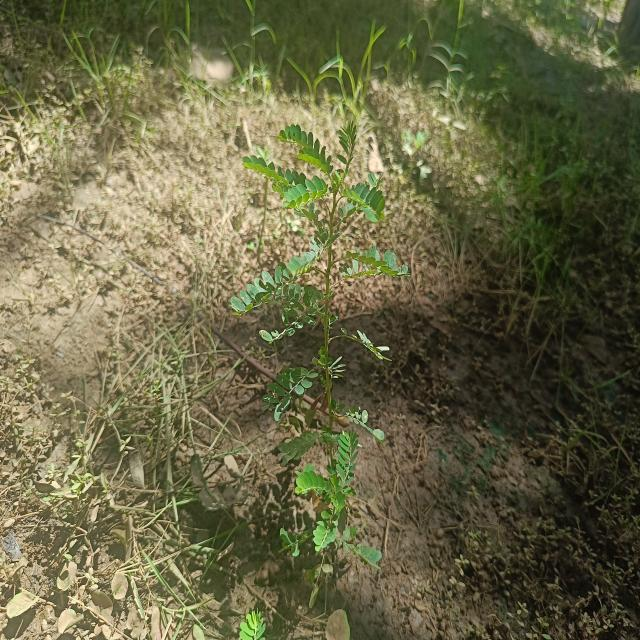weed: (221, 119, 419, 573), (298, 419, 391, 580)
